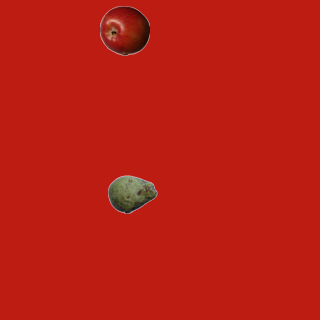Apple Braeburn: (99, 5, 149, 55)
Pear Stone: (107, 169, 157, 219)
